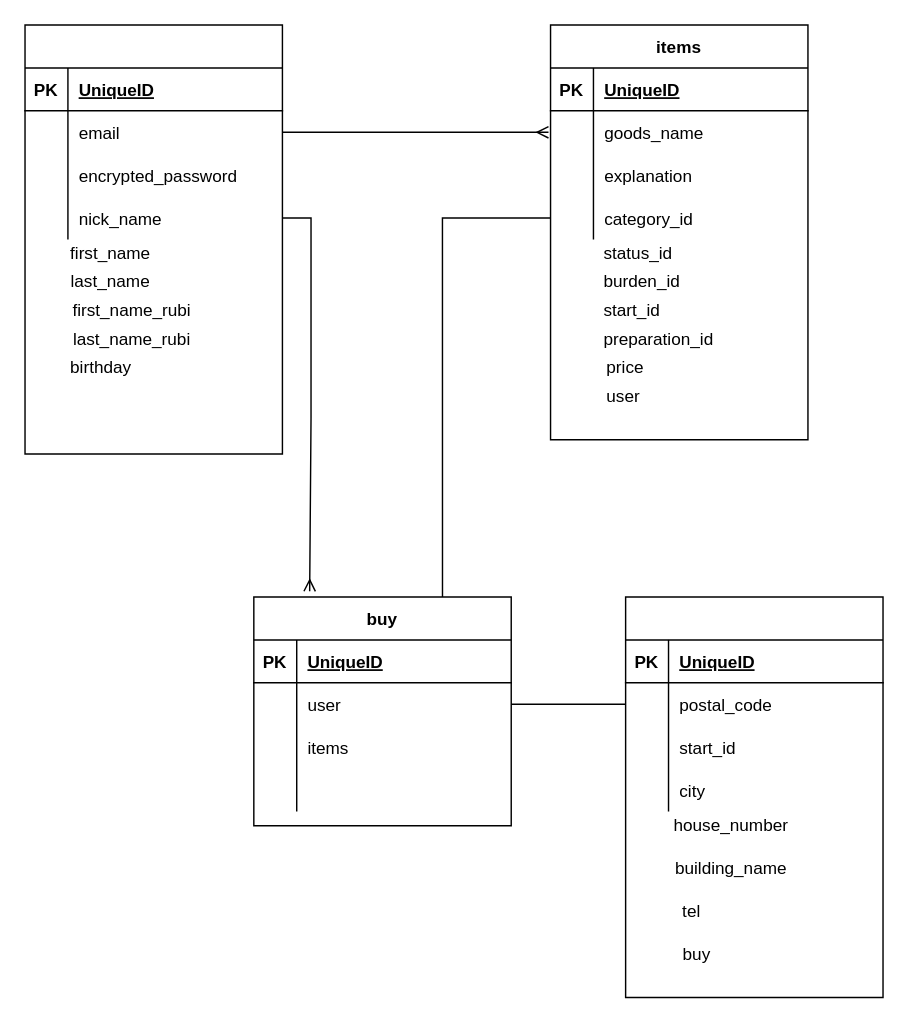
Some shapes in this 908 by 1022 pixel diagram are drawn without their labels. The box of each missing label's shape, as (x1, y1, x2, y2) in pixels:
address: (624, 596, 883, 997)
users: (24, 24, 282, 454)
